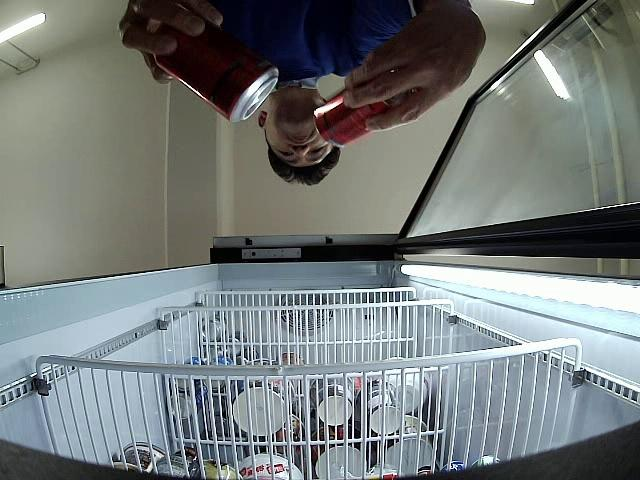00_hand: (344, 5, 486, 132), (119, 0, 224, 85)
11_cocaColaZero: (153, 16, 279, 123), (313, 73, 410, 147)
